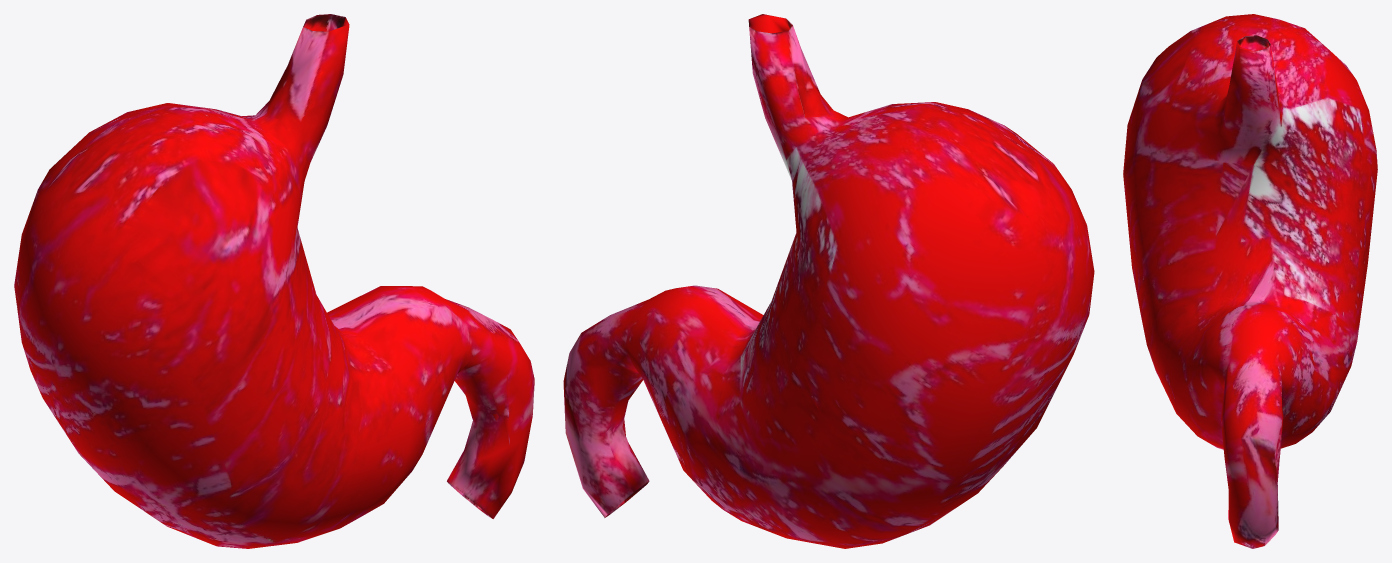
The model's file is stomach.gltf.
3 views of the same model, side by side, from view 1: azimuth 30°, elevation 25°; view 2: azimuth 150°, elevation 25°; view 3: azimuth 270°, elevation 25° (orthographic). The views are drawn at different scales.
Parts seen in each view (by area): view 1: Circle; view 2: Circle; view 3: Circle.
Boxes of the visible parts, x1,y1,x2,y2 form: Circle: (14,14,534,548); Circle: (563,14,1094,548); Circle: (1123,14,1377,548).
Size of the model in its own units: 1.91 by 1.93 by 1.01.
Materials: 1 (1 with a texture image).
